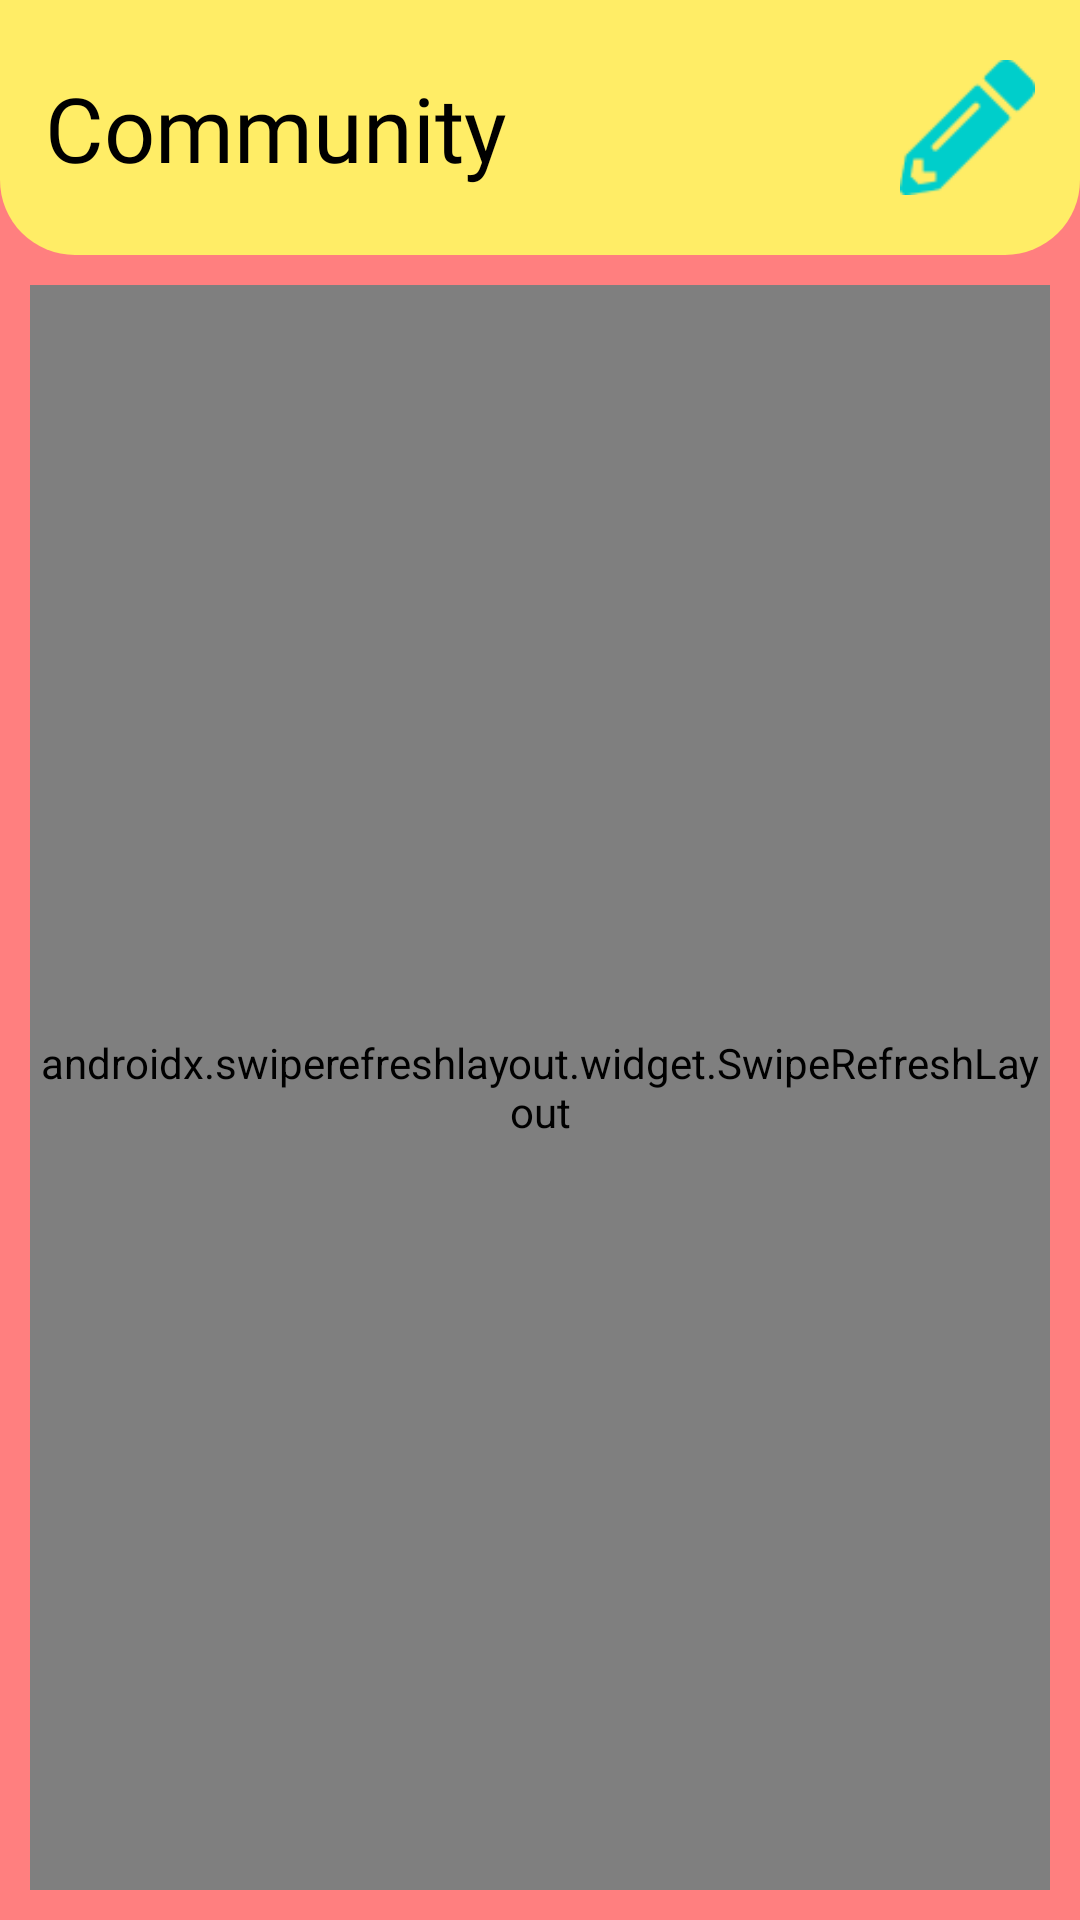

Screen size 1080px×1920px. Icon name, then its center in pixels as (x,y):
edit: (967,127)
